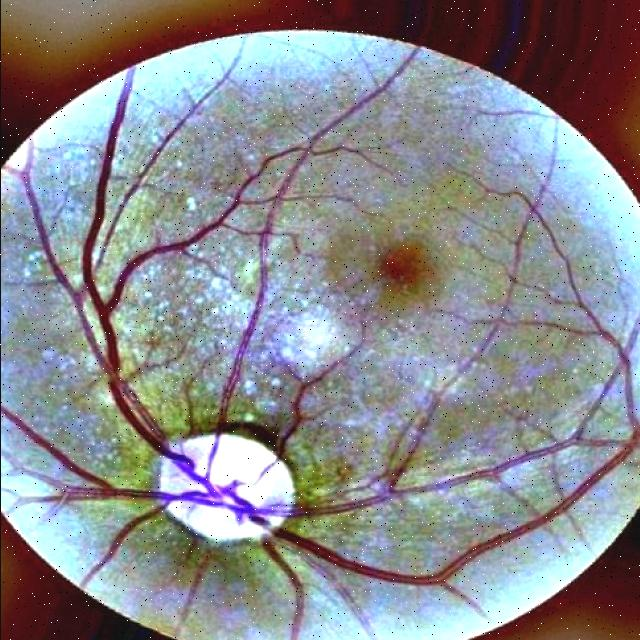Macula: (378, 242, 428, 288)
Nerves: (0, 53, 640, 640)
Optic Disk: (157, 434, 294, 541)
